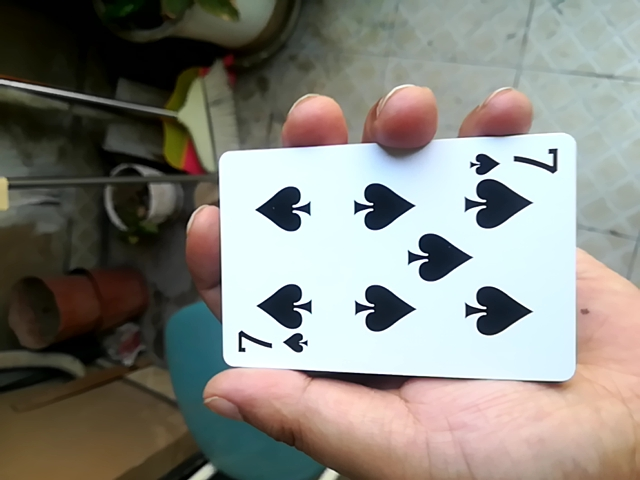ht 7: (200, 126, 565, 380)
